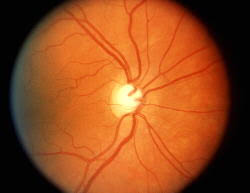Glaucoma section-1: (118, 87, 135, 108)
Glaucoma section-2: (111, 82, 146, 115)
